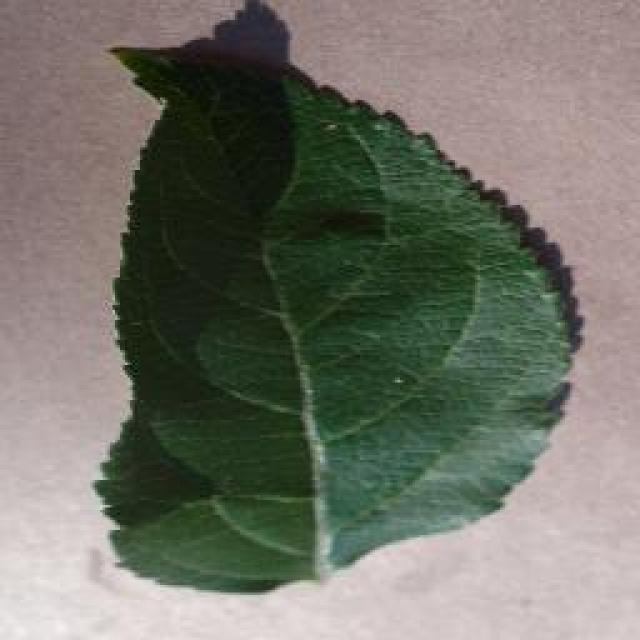apple healthy: (92, 0, 585, 592)
